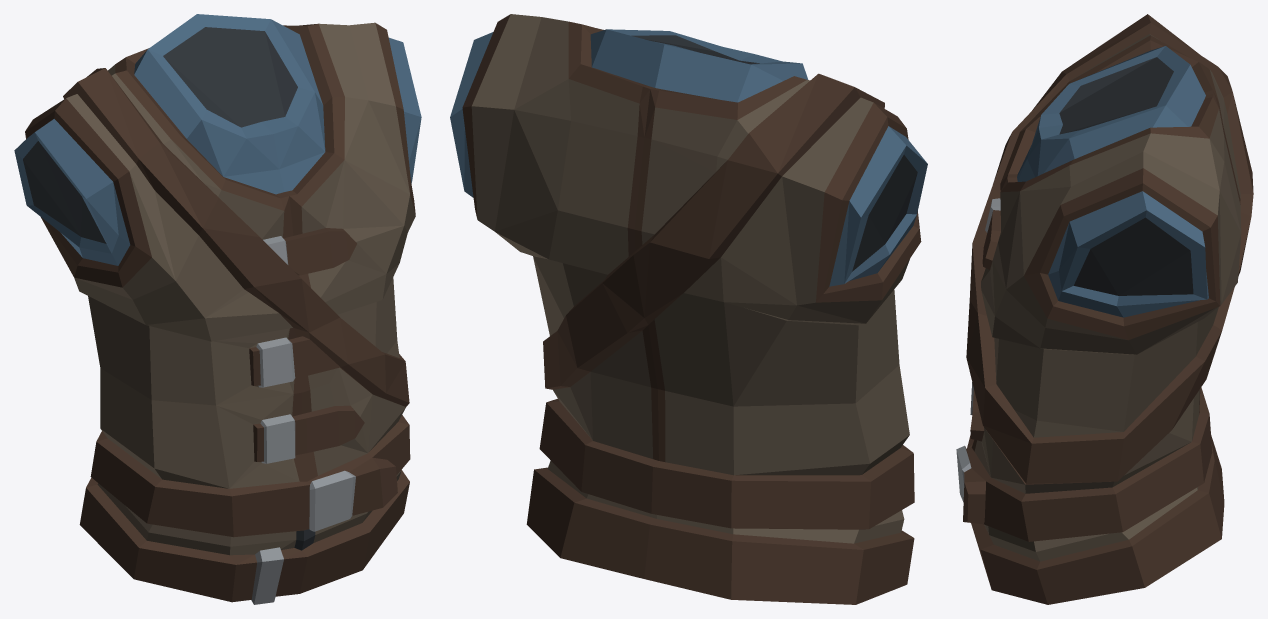
Rendered from Chr_Torso_Male_14_Static.fbx.
The picture shows the model from 3 angles, left to right: view 1: azimuth 30°, elevation 25°; view 2: azimuth 150°, elevation 25°; view 3: azimuth 270°, elevation 25°; orthographic projection. The views are drawn at different scales.
Visible parts, largest first — view 1: Chr_Torso_Male_14_Static; view 2: Chr_Torso_Male_14_Static; view 3: Chr_Torso_Male_14_Static.
Boxes of the visible parts, x1,y1,x2,y2 form: Chr_Torso_Male_14_Static: (14, 14, 421, 604); Chr_Torso_Male_14_Static: (450, 14, 927, 604); Chr_Torso_Male_14_Static: (956, 14, 1253, 604).
Bounding box in the file's own units: 0.502 × 0.6592 × 0.354.
